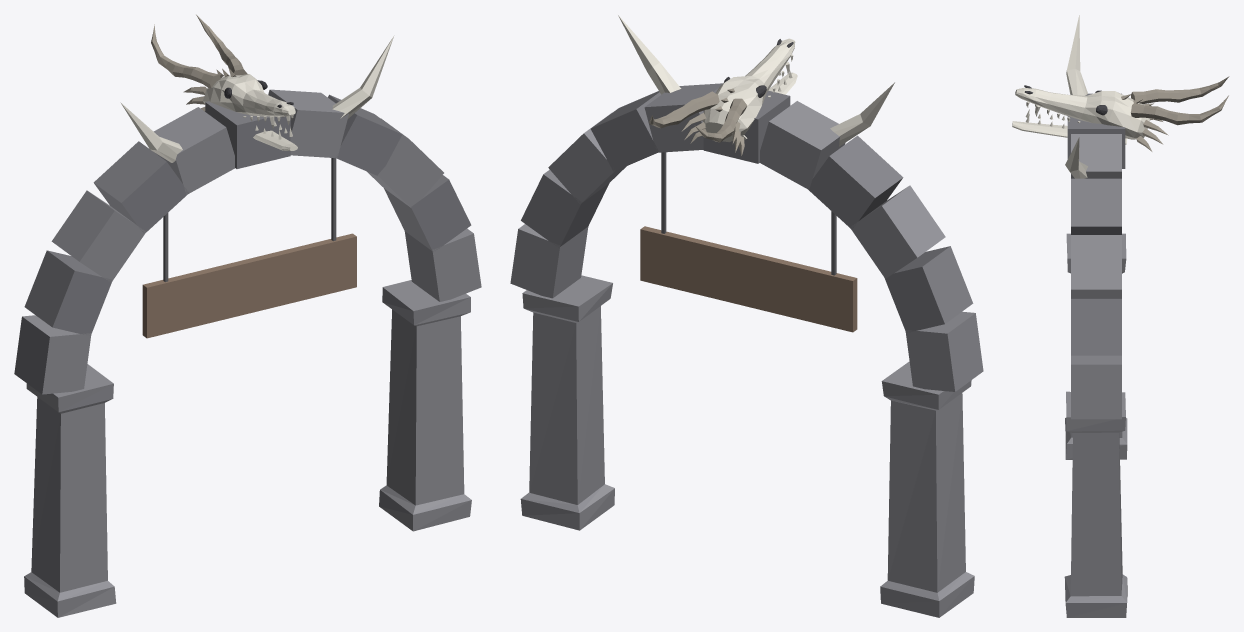
The model's file is Gate_EggRoad_v2.glb.
3 views of the same model, side by side, from view 1: azimuth 30°, elevation 25°; view 2: azimuth 150°, elevation 25°; view 3: azimuth 270°, elevation 25° (orthographic). The views are drawn at different scales.
Visible parts, largest first — view 1: Stone, StoneDark, Sign, Bones, Horns, Iron; view 2: Stone, StoneDark, Sign, Bones, Horns, Iron; view 3: Stone, StoneDark, Bones, Horns.
Boxes of the visible parts, left/top/right/bottom form: Stone: left=14, top=89, right=481, bottom=617; StoneDark: left=24, top=94, right=471, bottom=335; Sign: left=142, top=233, right=356, bottom=338; Bones: left=120, top=35, right=394, bottom=162; Horns: left=151, top=14, right=247, bottom=111; Iron: left=163, top=158, right=336, bottom=281; Stone: left=510, top=83, right=983, bottom=617; StoneDark: left=521, top=90, right=973, bottom=332; Sign: left=640, top=226, right=857, bottom=332; Bones: left=618, top=15, right=894, bottom=146; Horns: left=649, top=88, right=747, bottom=156; Iron: left=661, top=152, right=836, bottom=275; Stone: left=1064, top=93, right=1127, bottom=617; StoneDark: left=1067, top=116, right=1125, bottom=355; Bones: left=1012, top=15, right=1149, bottom=178; Horns: left=1121, top=76, right=1229, bottom=151.
Bounding box in the file's own units: 27.2 × 29.2 × 12.76.
